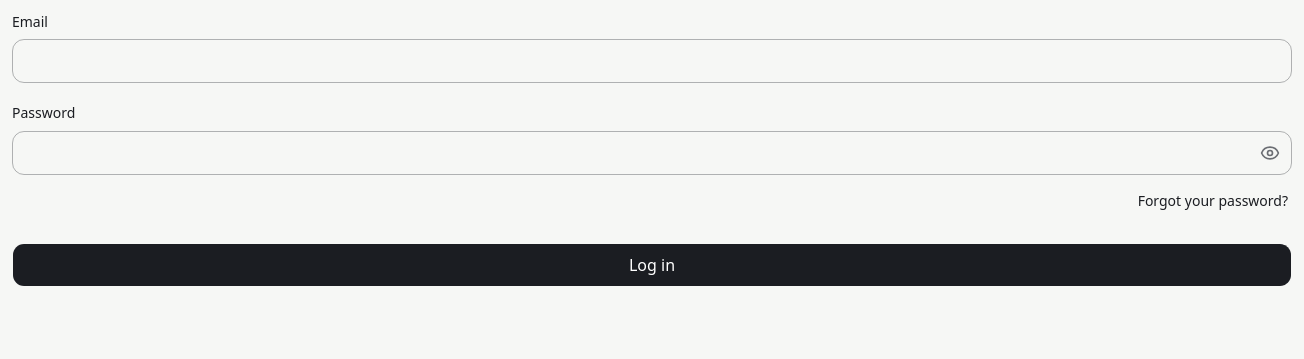
Test case: LoginForm › validates on the client before sending anything
Click the button "Log in". click: (652, 264)
box: [12,242,1292,286]
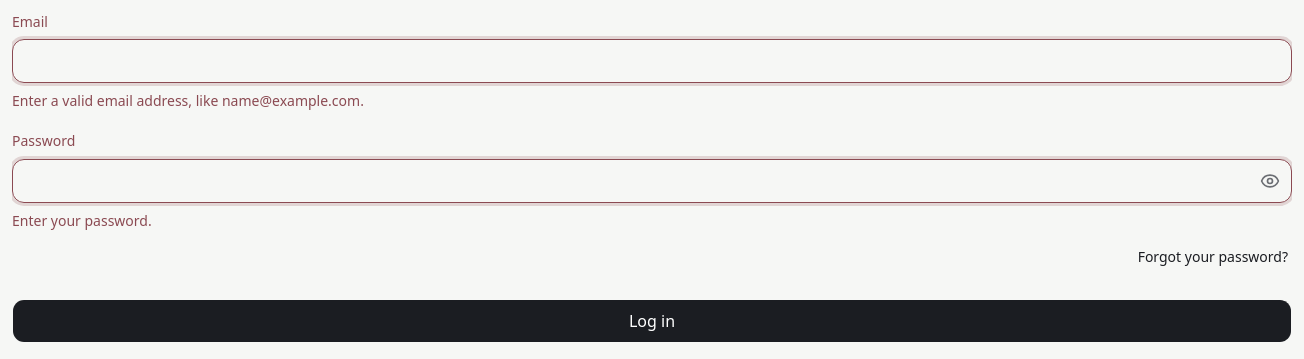
Check: the text "Enter a valid email address, like name@example.com." is shown, box [12,91,364,110]
Check: the text "Enter your password." is shown, box [12,210,152,230]
